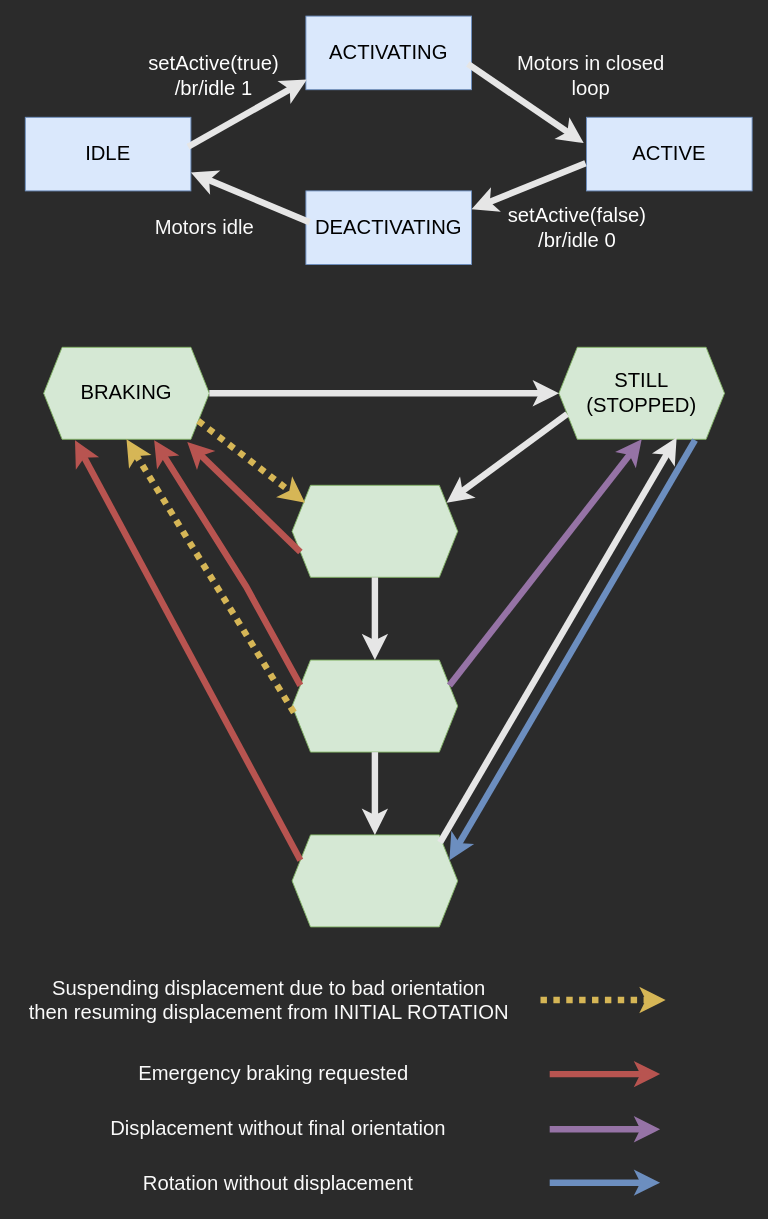
This 768x1219 diagram has some shape labels left out. Each missing label, with the centre of its shape:
"FINAL ROTATION" belongs at point (374, 880).
"INITIAL ROTATION" belongs at point (374, 530).
"TRAJECTORY (MOVING)" belongs at point (374, 705).
